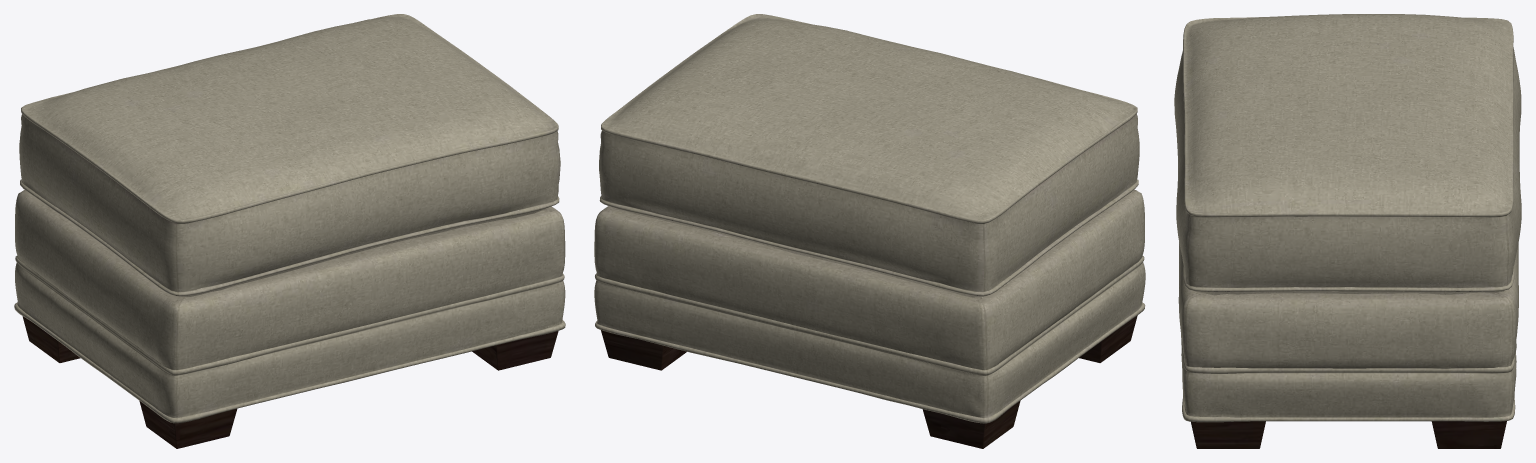
The model's file is abo-B071SLGZ3X.glb.
3 views of the same model, side by side, from view 1: azimuth 30°, elevation 25°; view 2: azimuth 150°, elevation 25°; view 3: azimuth 270°, elevation 25° (orthographic). The views are drawn at different scales.
Bounding box in the file's own units: 0.848 × 0.508 × 0.611.
Materials: 1 (1 with a texture image).
